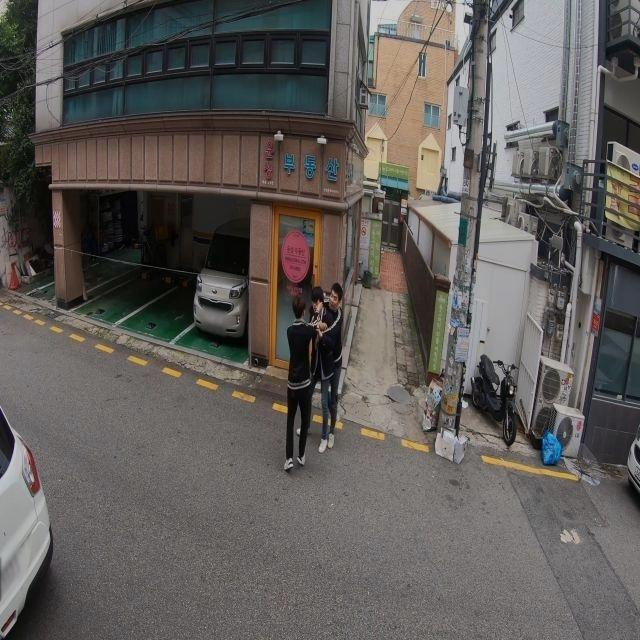fight: (280, 282, 341, 472)
